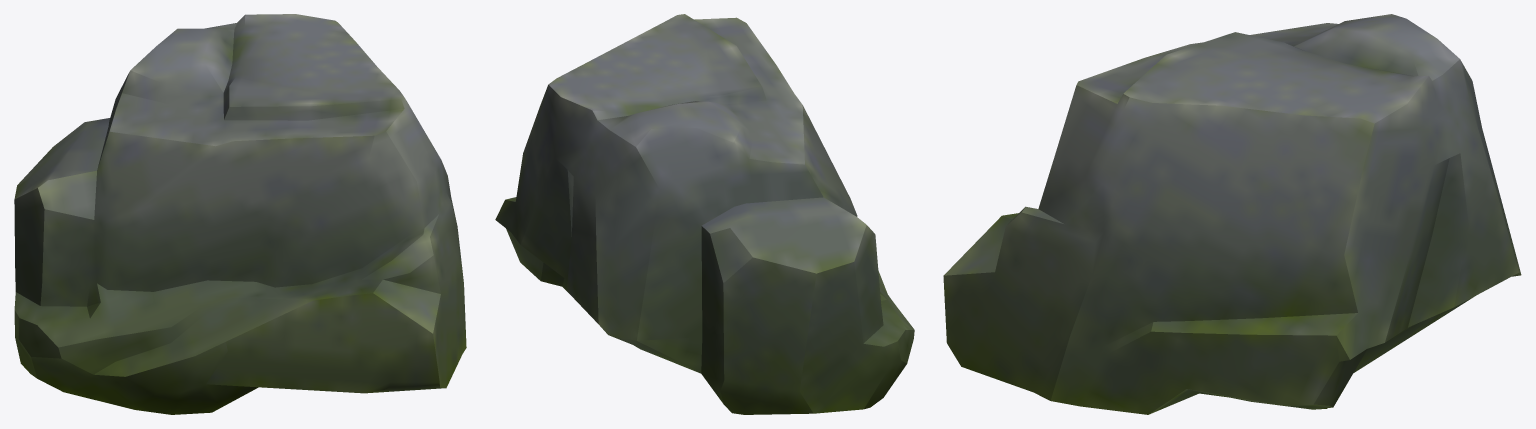
Rendered from Rock_Medium_3.glb.
3 views of the same model, side by side, from view 1: azimuth 30°, elevation 25°; view 2: azimuth 150°, elevation 25°; view 3: azimuth 270°, elevation 25° (orthographic). The views are drawn at different scales.
Visible parts, largest first — view 1: Rock_Medium_3; view 2: Rock_Medium_3; view 3: Rock_Medium_3.
Part boxes in pixels (left/top/right/bottom): Rock_Medium_3: left=14, top=14, right=466, bottom=414; Rock_Medium_3: left=495, top=14, right=914, bottom=414; Rock_Medium_3: left=943, top=14, right=1521, bottom=414.
Size of the model in its own units: 3.42 by 2.32 by 3.48.
Materials: 1 (1 with a texture image).
